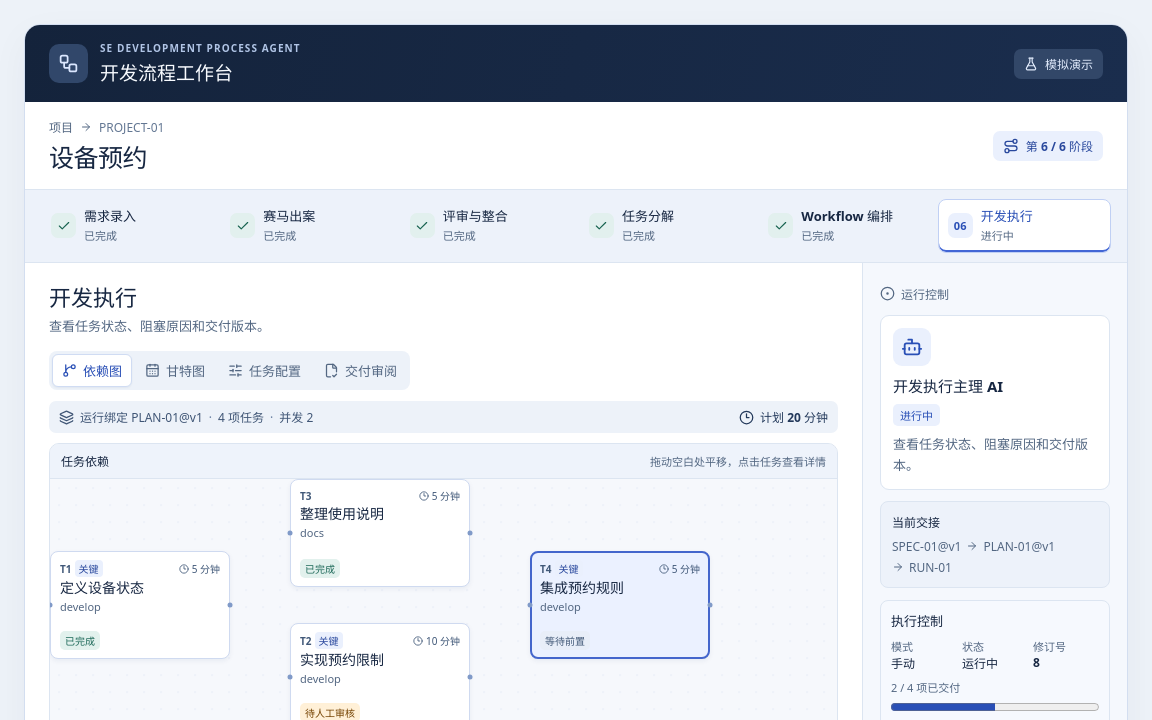
Test: 阻止无效并发值，展示服务端成环路径且不推进版本
The width and height of the screenshot is (1152, 720).
Step 1. Click the button "任务配置" → {"x": 264, "y": 371}, box [218,354,311,387]
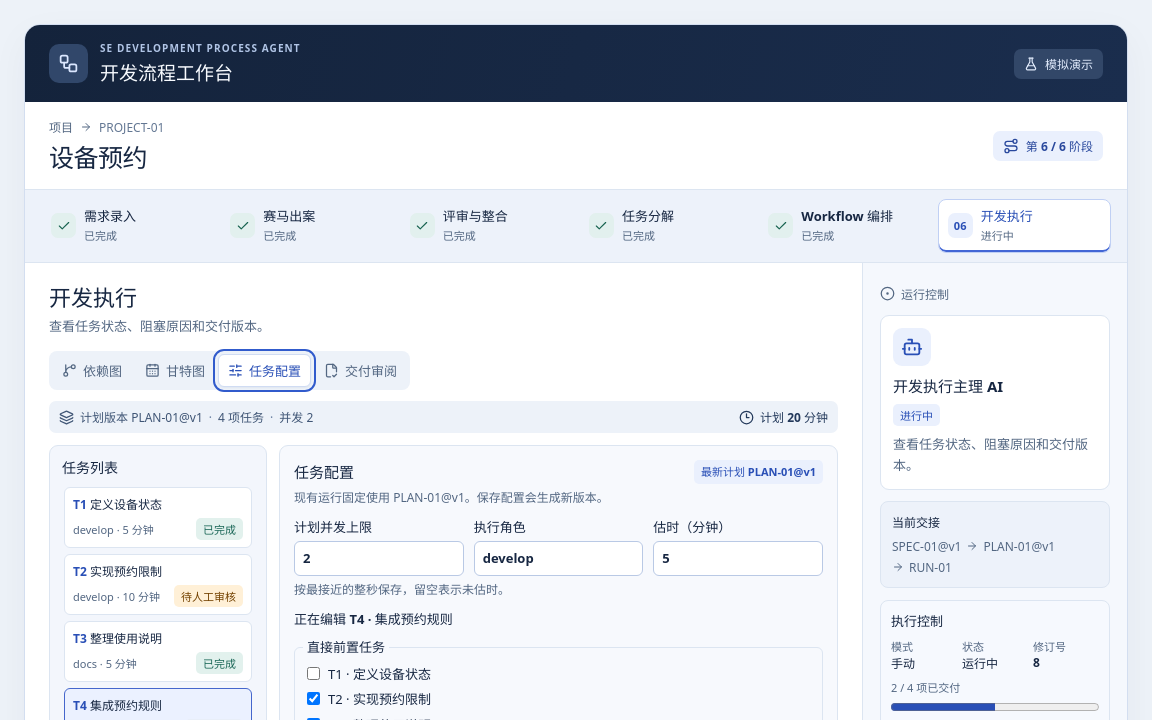
Step 2. Replace the text in the number field labelled "计划并发上限" with "0" → {"x": 379, "y": 558}, box [294,541,464,576]
(page scrolled)
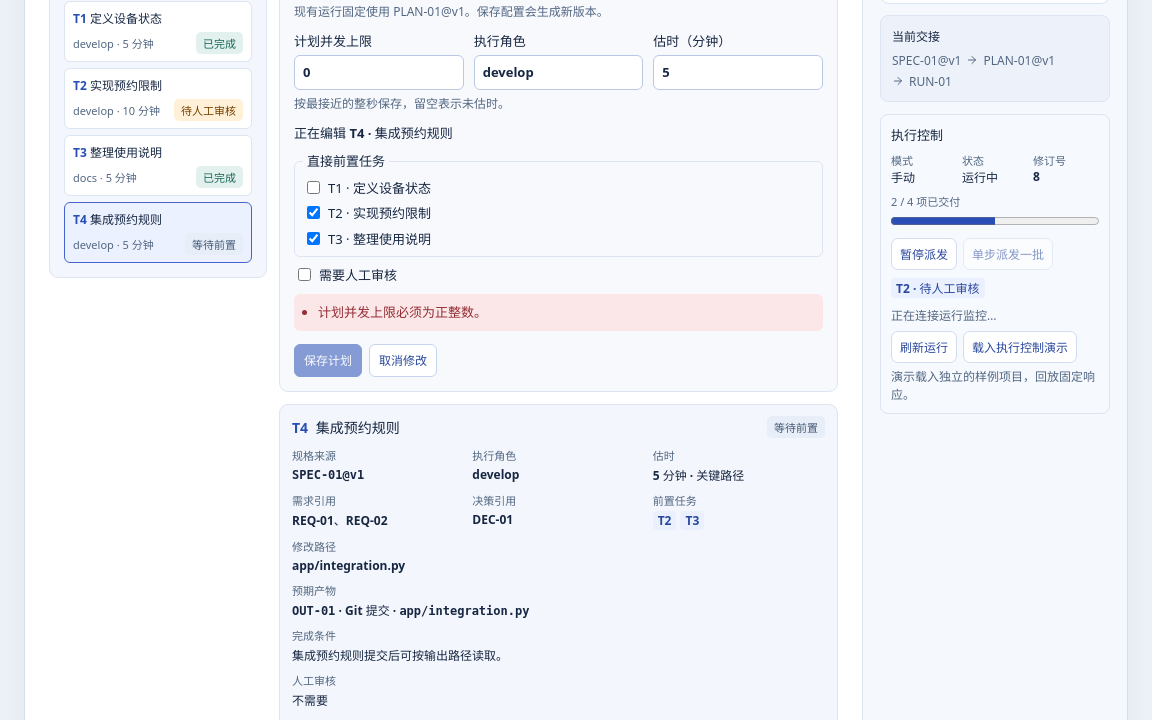
Now the button "保存计划" is disabled, box [294,344,362,377]
Now the list item "计划并发上限必须为正整数。" is shown, box [318,303,487,321]
Step 3. Click the button "取消修改" → {"x": 403, "y": 360}, box [369,344,437,377]
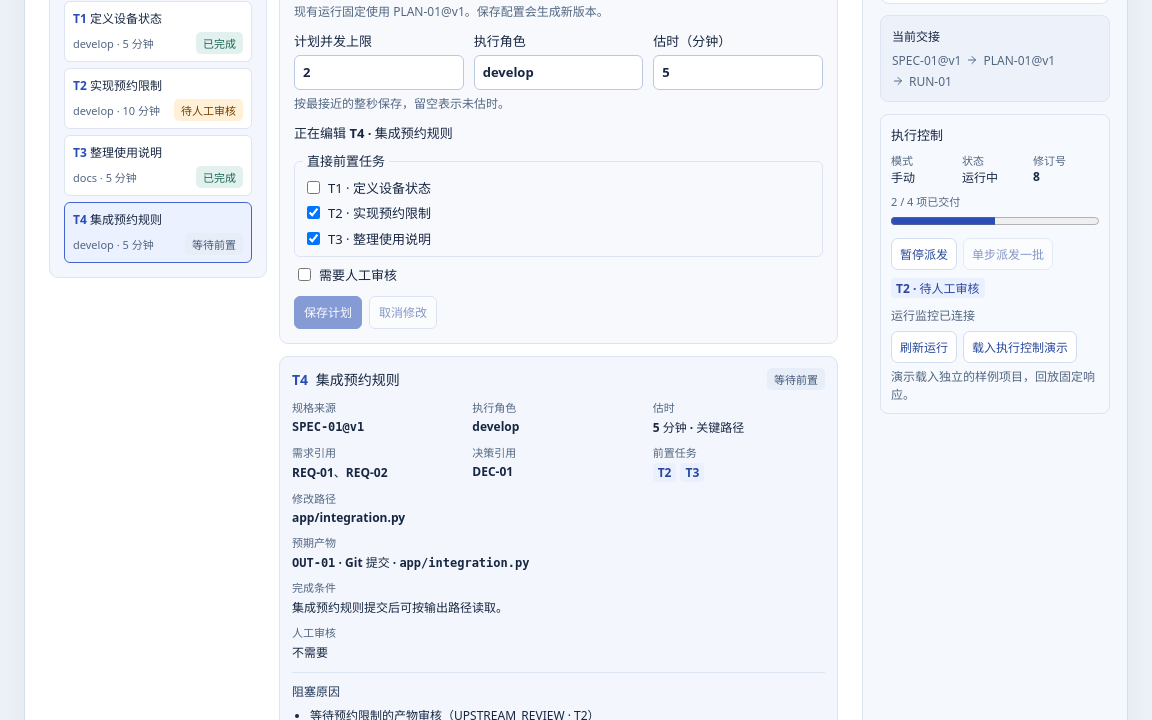
Step 4. Click the button "T1 定义设备状态 develop · 5 分钟 已完成" → {"x": 158, "y": 32}, box [64,1,252,62]
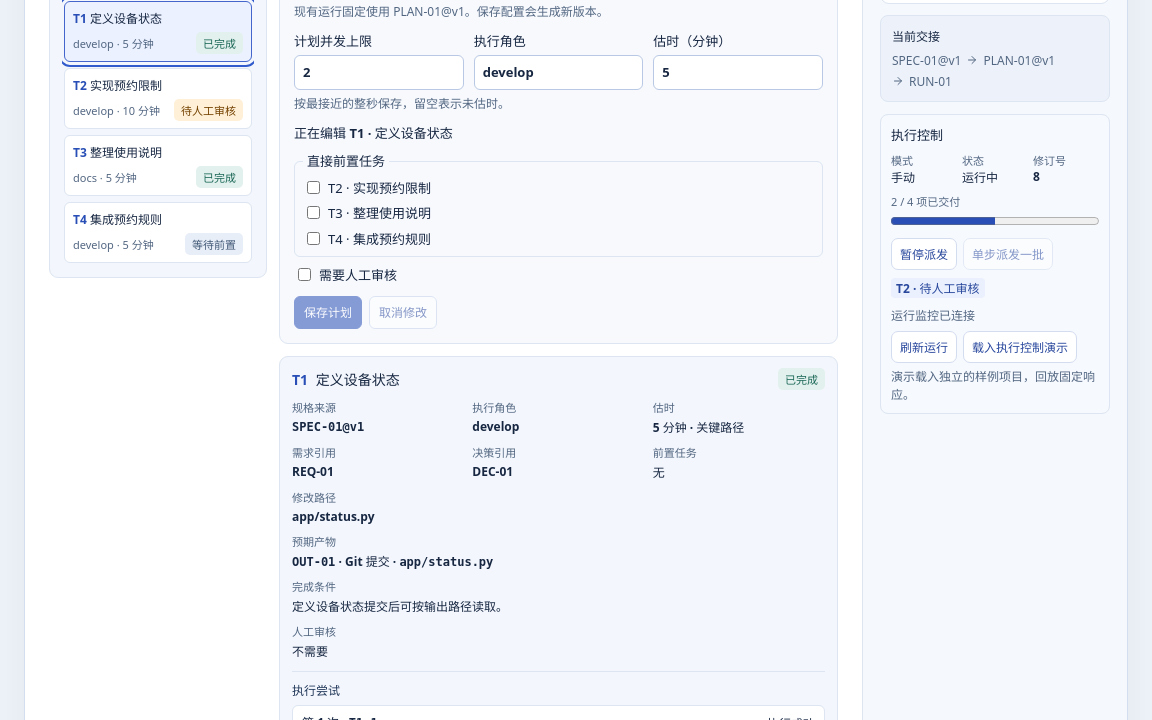
Step 5. Click the checkbox labelled "T4 · 集成预约规则" → {"x": 314, "y": 239}, box [307,232,320,245]
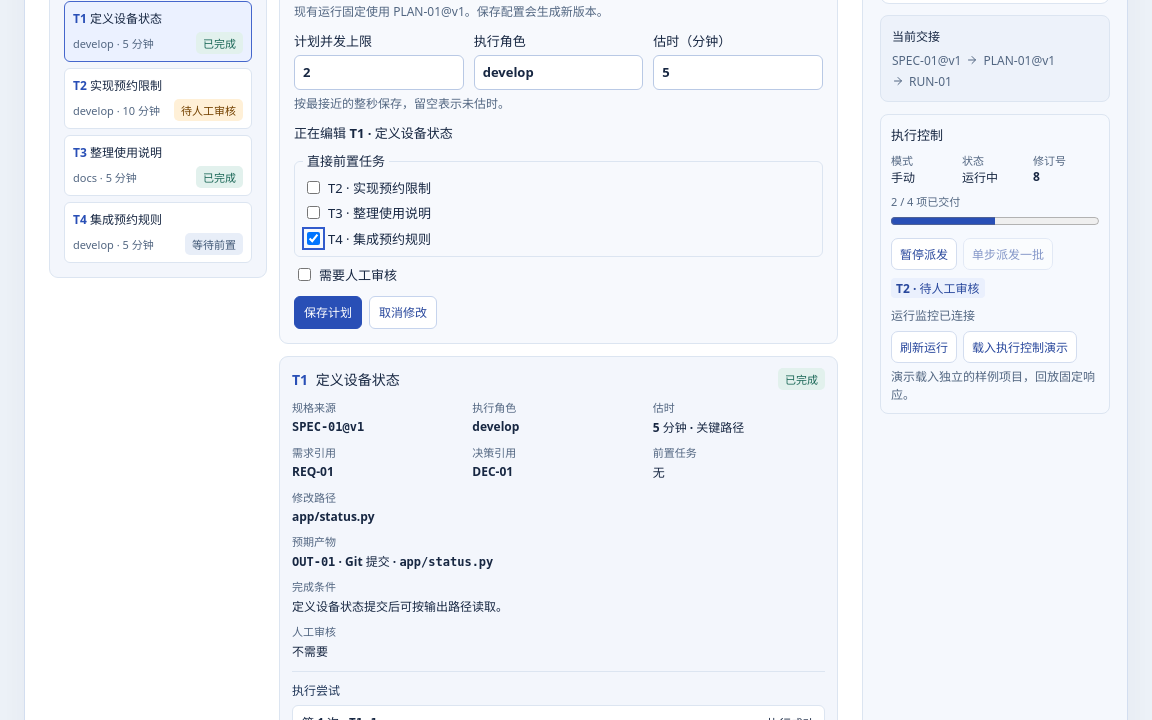
Step 6. Click the button "保存计划" → {"x": 328, "y": 312}, box [294,296,362,329]
(page scrolled)
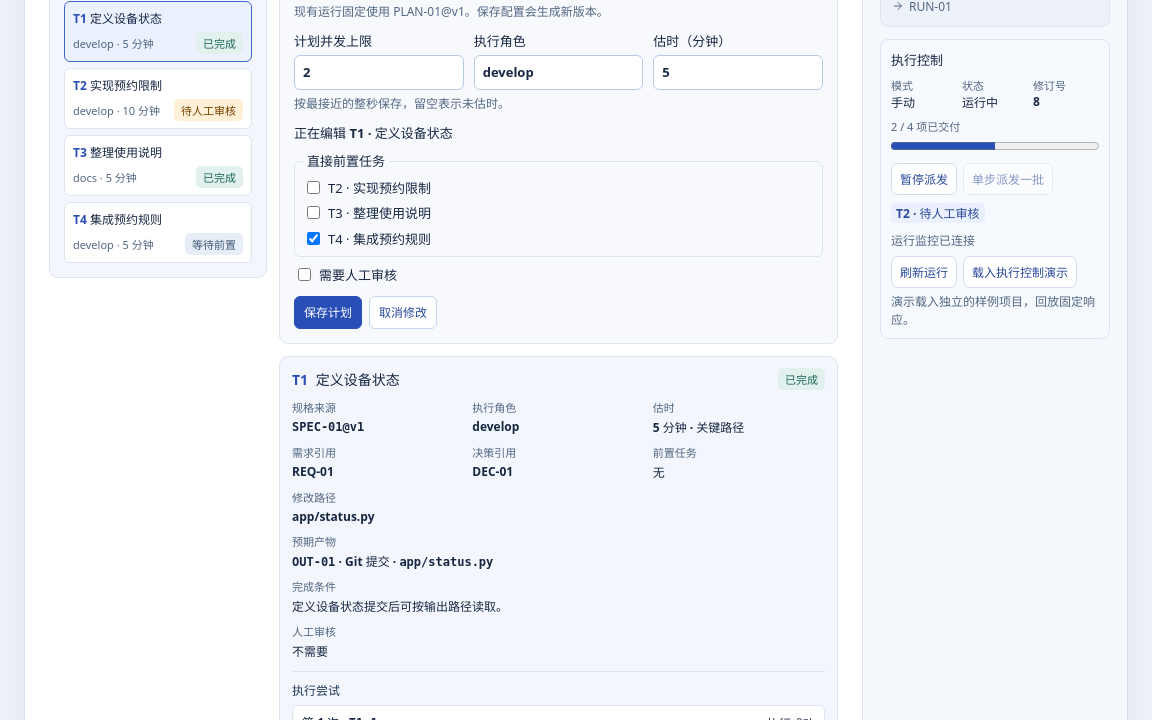
Now the checkbox labelled "T4 · 集成预约规则" is checked, box [307,232,320,245]
